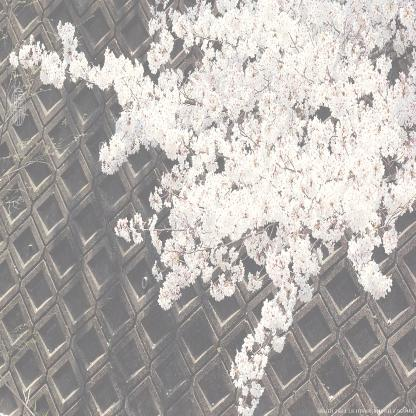Someiyoshino: (2, 2, 415, 414)
